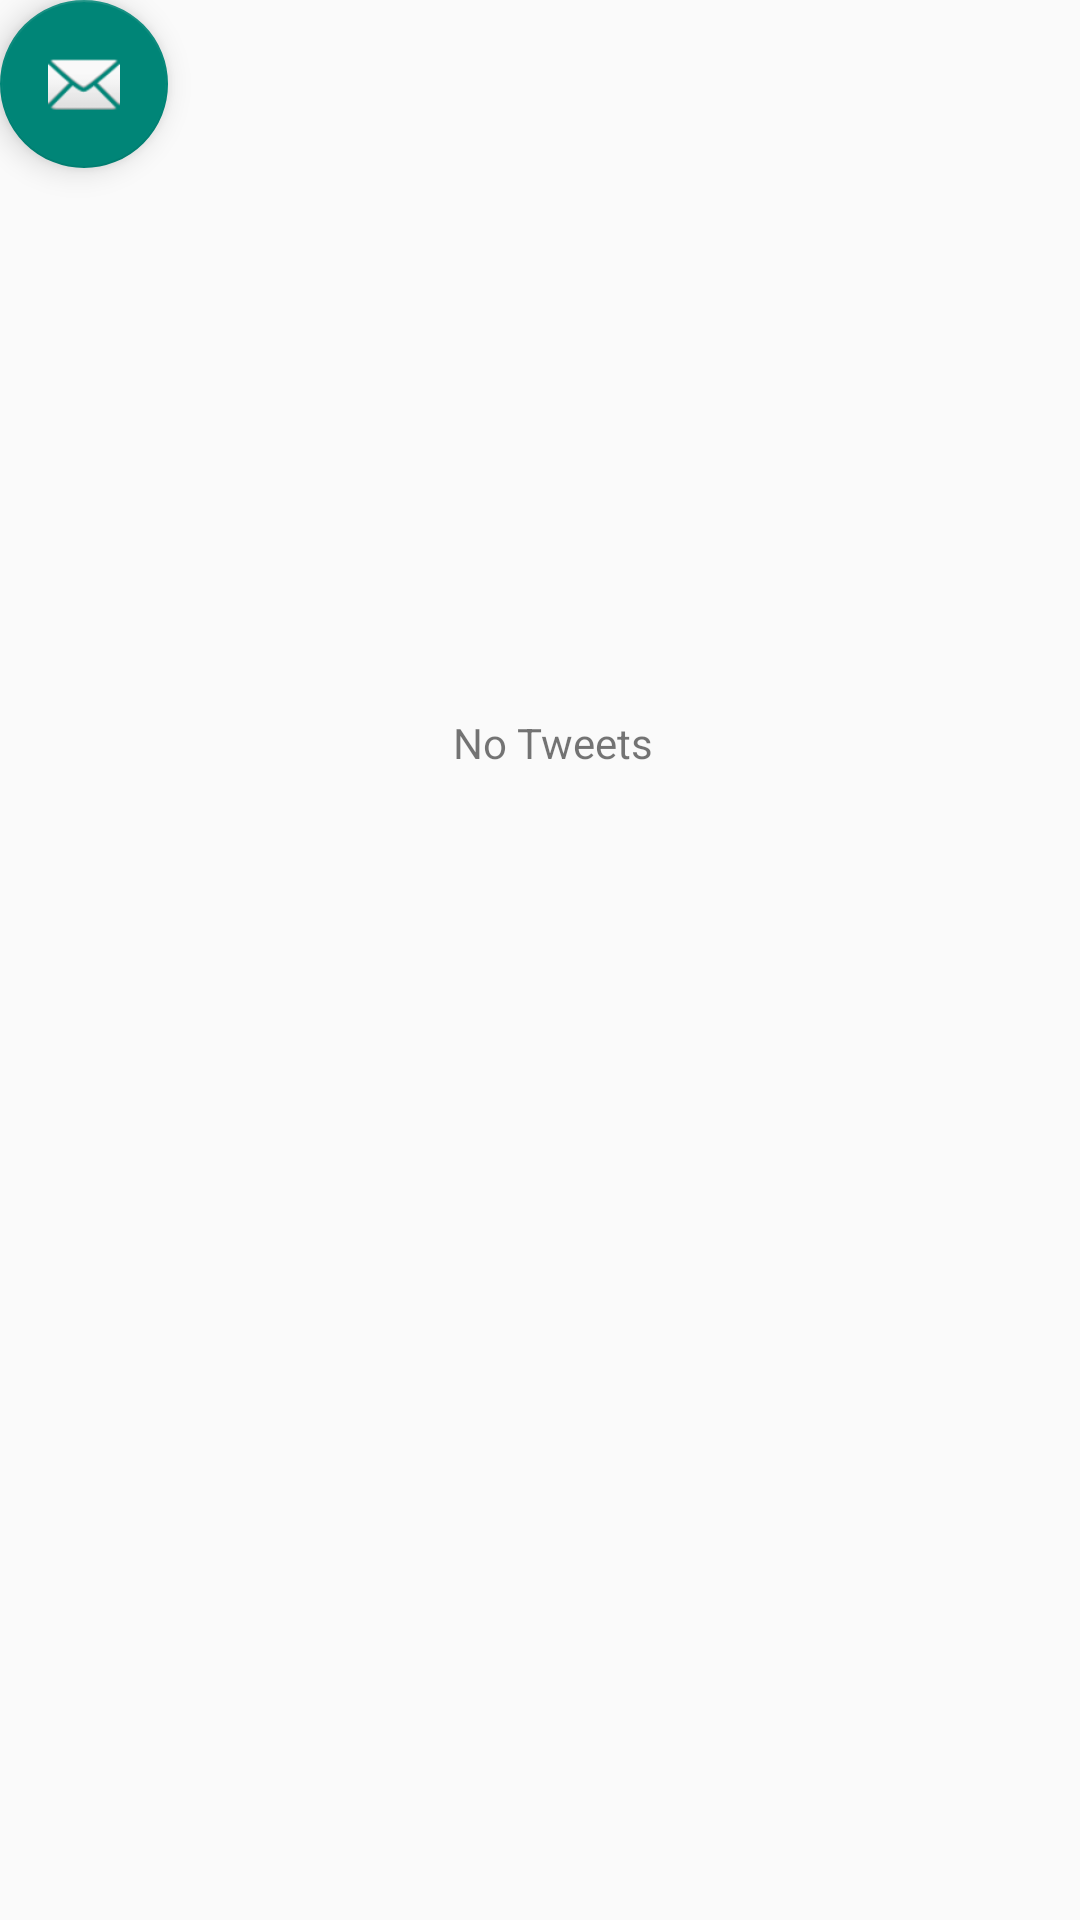

Where icons sit on this 1080x1920 app screen, as BBox(x1, y1, x2, y2):
email: BBox(0, 0, 168, 168)
